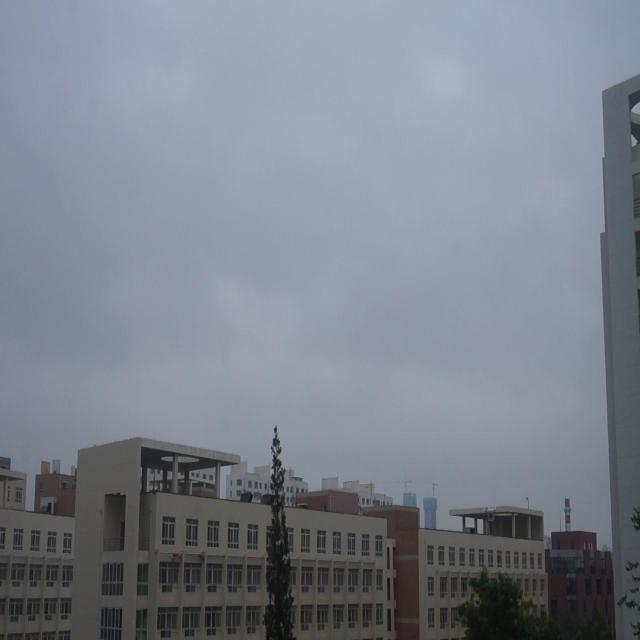drone: (482, 506, 498, 520)
